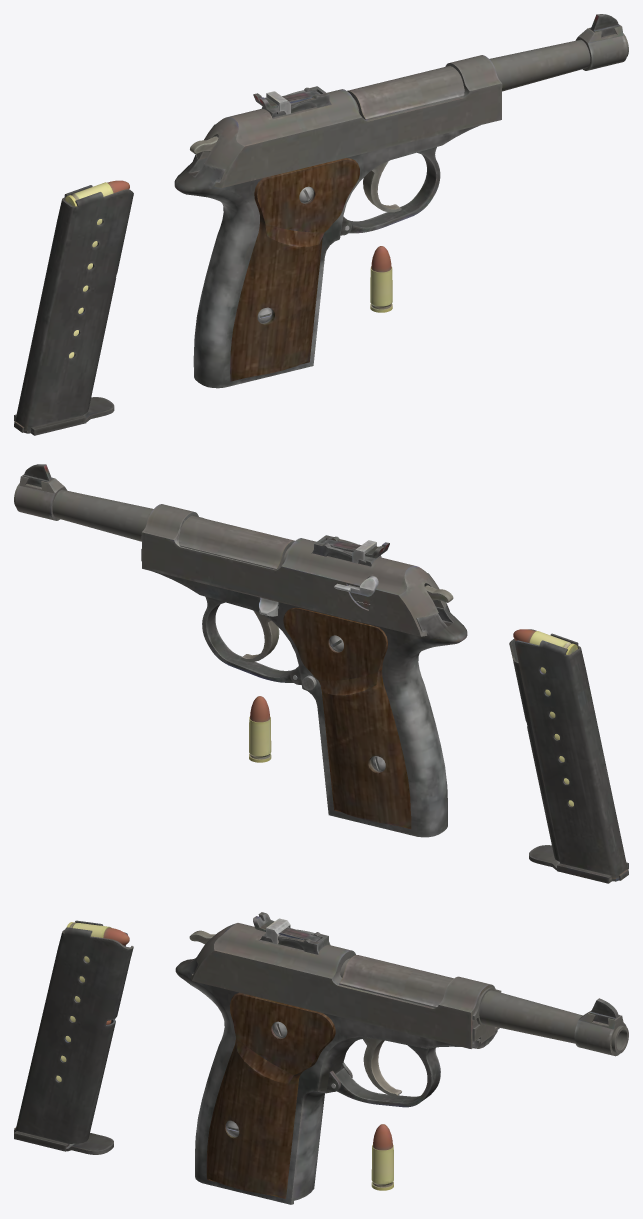
The model's file is ph_pistol.m.d4d07453.glb.
3 views of the same model, one above another, from view 1: azimuth 30°, elevation 25°; view 2: azimuth 150°, elevation 25°; view 3: azimuth 330°, elevation 25° (orthographic).
Parts seen in each view (by area): view 1: service_pistol_pistol_a, service_pistol_magazine_loaded, service_pistol_slide_a, service_pistol_bullet, service_pistol_trigger_a; view 2: service_pistol_pistol_a, service_pistol_magazine_loaded, service_pistol_slide_a, service_pistol_bullet, service_pistol_trigger_a; view 3: service_pistol_pistol_a, service_pistol_magazine_loaded, service_pistol_slide_a, service_pistol_bullet, service_pistol_trigger_a.
Boxes of the visible parts, bbox=[...] form: service_pistol_pistol_a: bbox=[174, 14, 628, 388]; service_pistol_magazine_loaded: bbox=[14, 180, 133, 435]; service_pistol_slide_a: bbox=[197, 55, 502, 187]; service_pistol_bullet: bbox=[370, 246, 392, 312]; service_pistol_trigger_a: bbox=[363, 161, 401, 212]; service_pistol_pistol_a: bbox=[14, 464, 467, 837]; service_pistol_magazine_loaded: bbox=[509, 629, 628, 883]; service_pistol_slide_a: bbox=[141, 504, 450, 636]; service_pistol_bullet: bbox=[249, 696, 271, 762]; service_pistol_trigger_a: bbox=[240, 611, 279, 661]; service_pistol_pistol_a: bbox=[175, 955, 628, 1204]; service_pistol_magazine_loaded: bbox=[14, 920, 133, 1154]; service_pistol_slide_a: bbox=[190, 912, 501, 1048]; service_pistol_bullet: bbox=[371, 1124, 393, 1190]; service_pistol_trigger_a: bbox=[363, 1038, 401, 1096].
Size of the model in its own units: 0.3016 by 0.1307 by 0.0318.
1 material, 1 textured.
